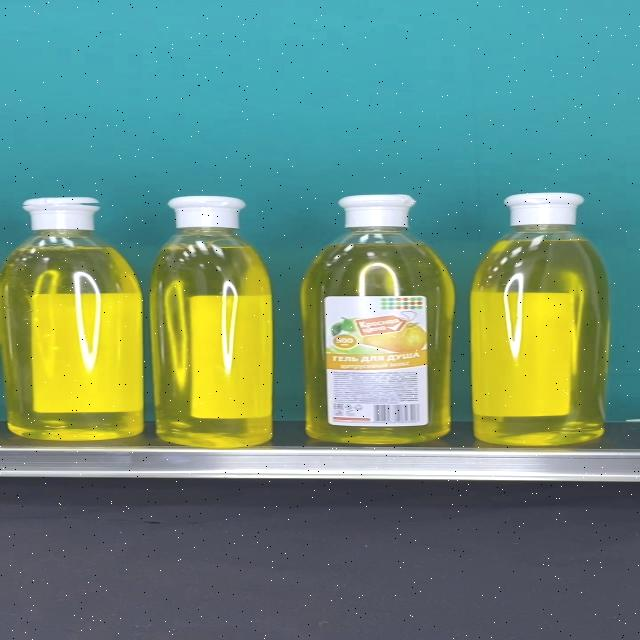Bottle: (300, 194, 454, 445), (471, 192, 612, 445), (0, 196, 143, 440), (150, 196, 272, 448)
Cap: (502, 192, 585, 226), (337, 195, 417, 228), (23, 196, 100, 230), (167, 196, 245, 228)
